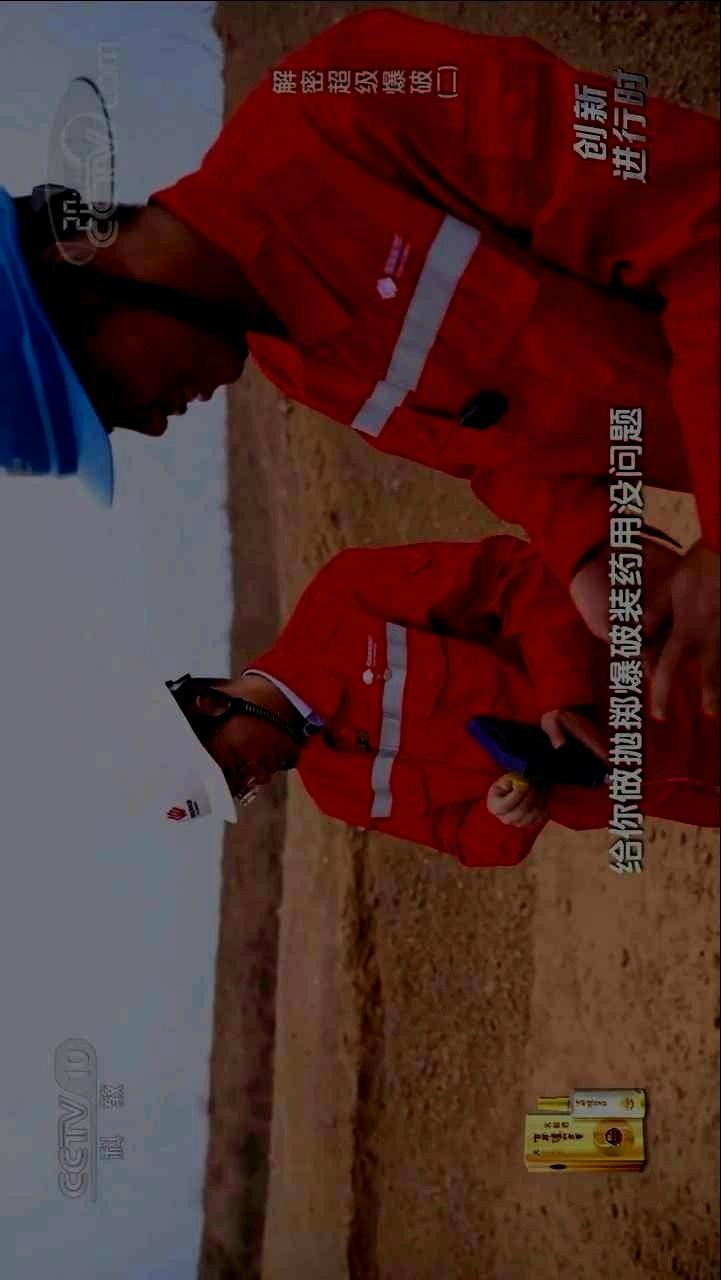helmet: (1, 181, 250, 508), (95, 673, 302, 825)
